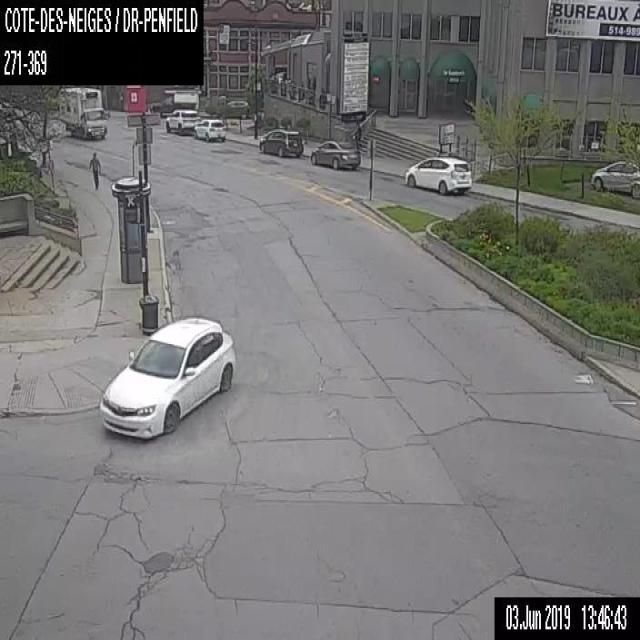pedestrian: (87, 150, 101, 190)
vehicle: (98, 314, 235, 438), (403, 154, 473, 194), (56, 84, 106, 137), (590, 159, 639, 198), (309, 139, 361, 169), (258, 127, 302, 155), (164, 106, 200, 134), (193, 117, 225, 140), (227, 99, 248, 116)
